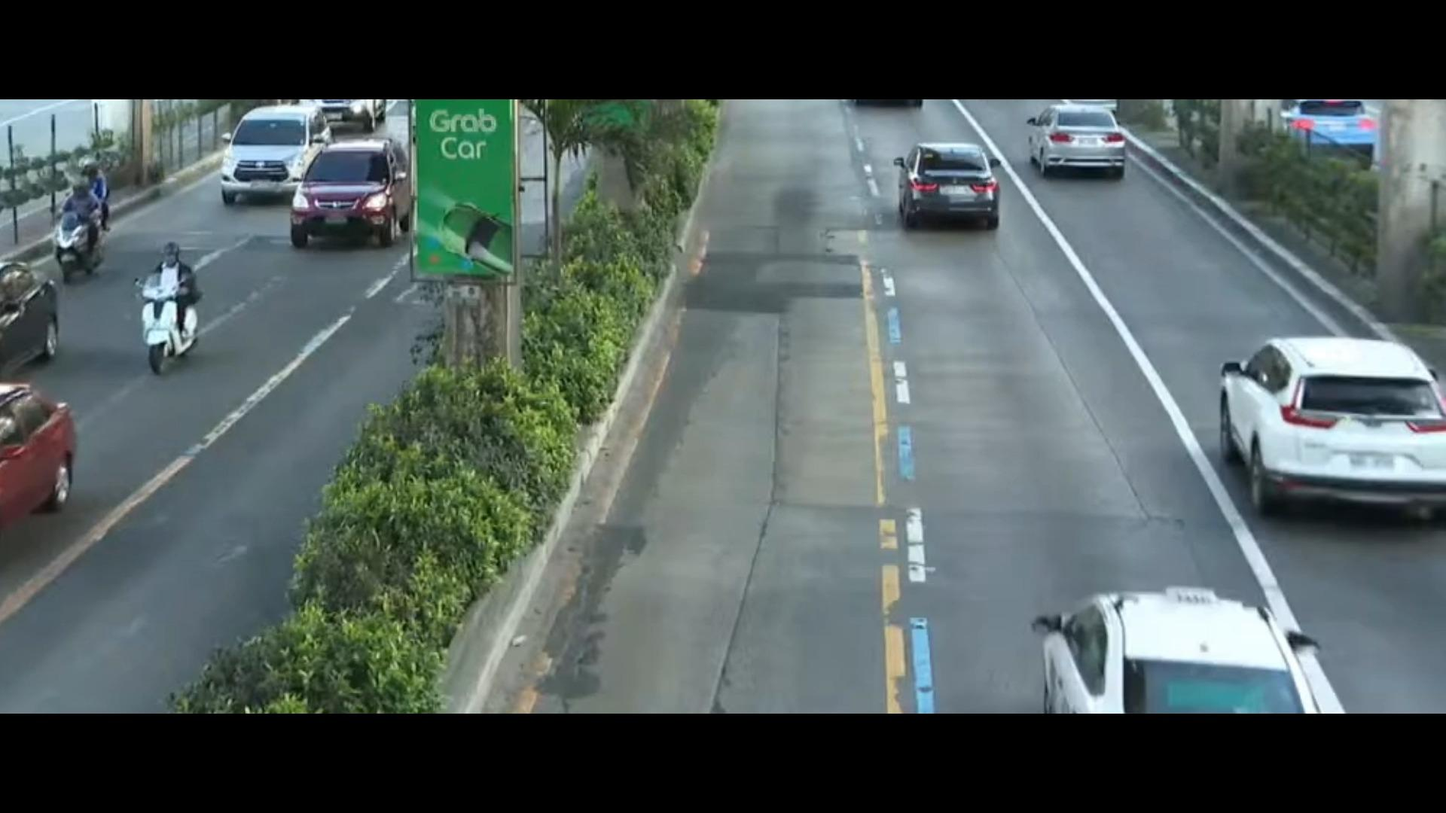Motorcycle: (113, 239, 221, 390), (39, 159, 121, 278)
SUV: (1199, 314, 1446, 551), (278, 139, 422, 264), (196, 93, 337, 200)
Sedan: (1022, 515, 1333, 729), (871, 133, 1015, 254), (0, 384, 96, 531), (1003, 96, 1125, 192), (0, 249, 71, 384)
